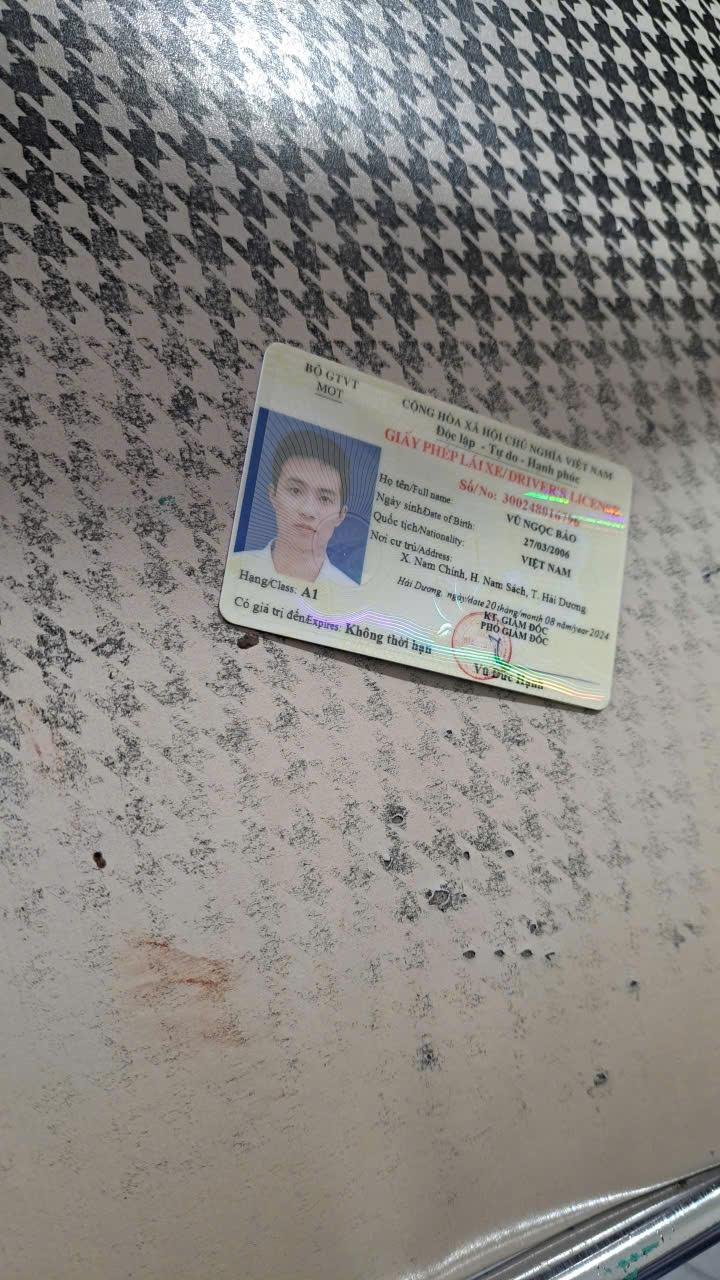gplx: (208, 329, 640, 722)
